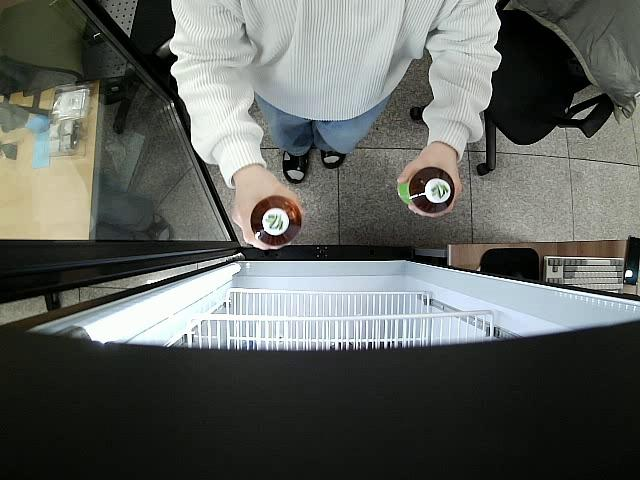00_hand: (229, 164, 306, 250), (399, 144, 463, 216)
19_17cha: (395, 167, 456, 214), (252, 195, 301, 248)
